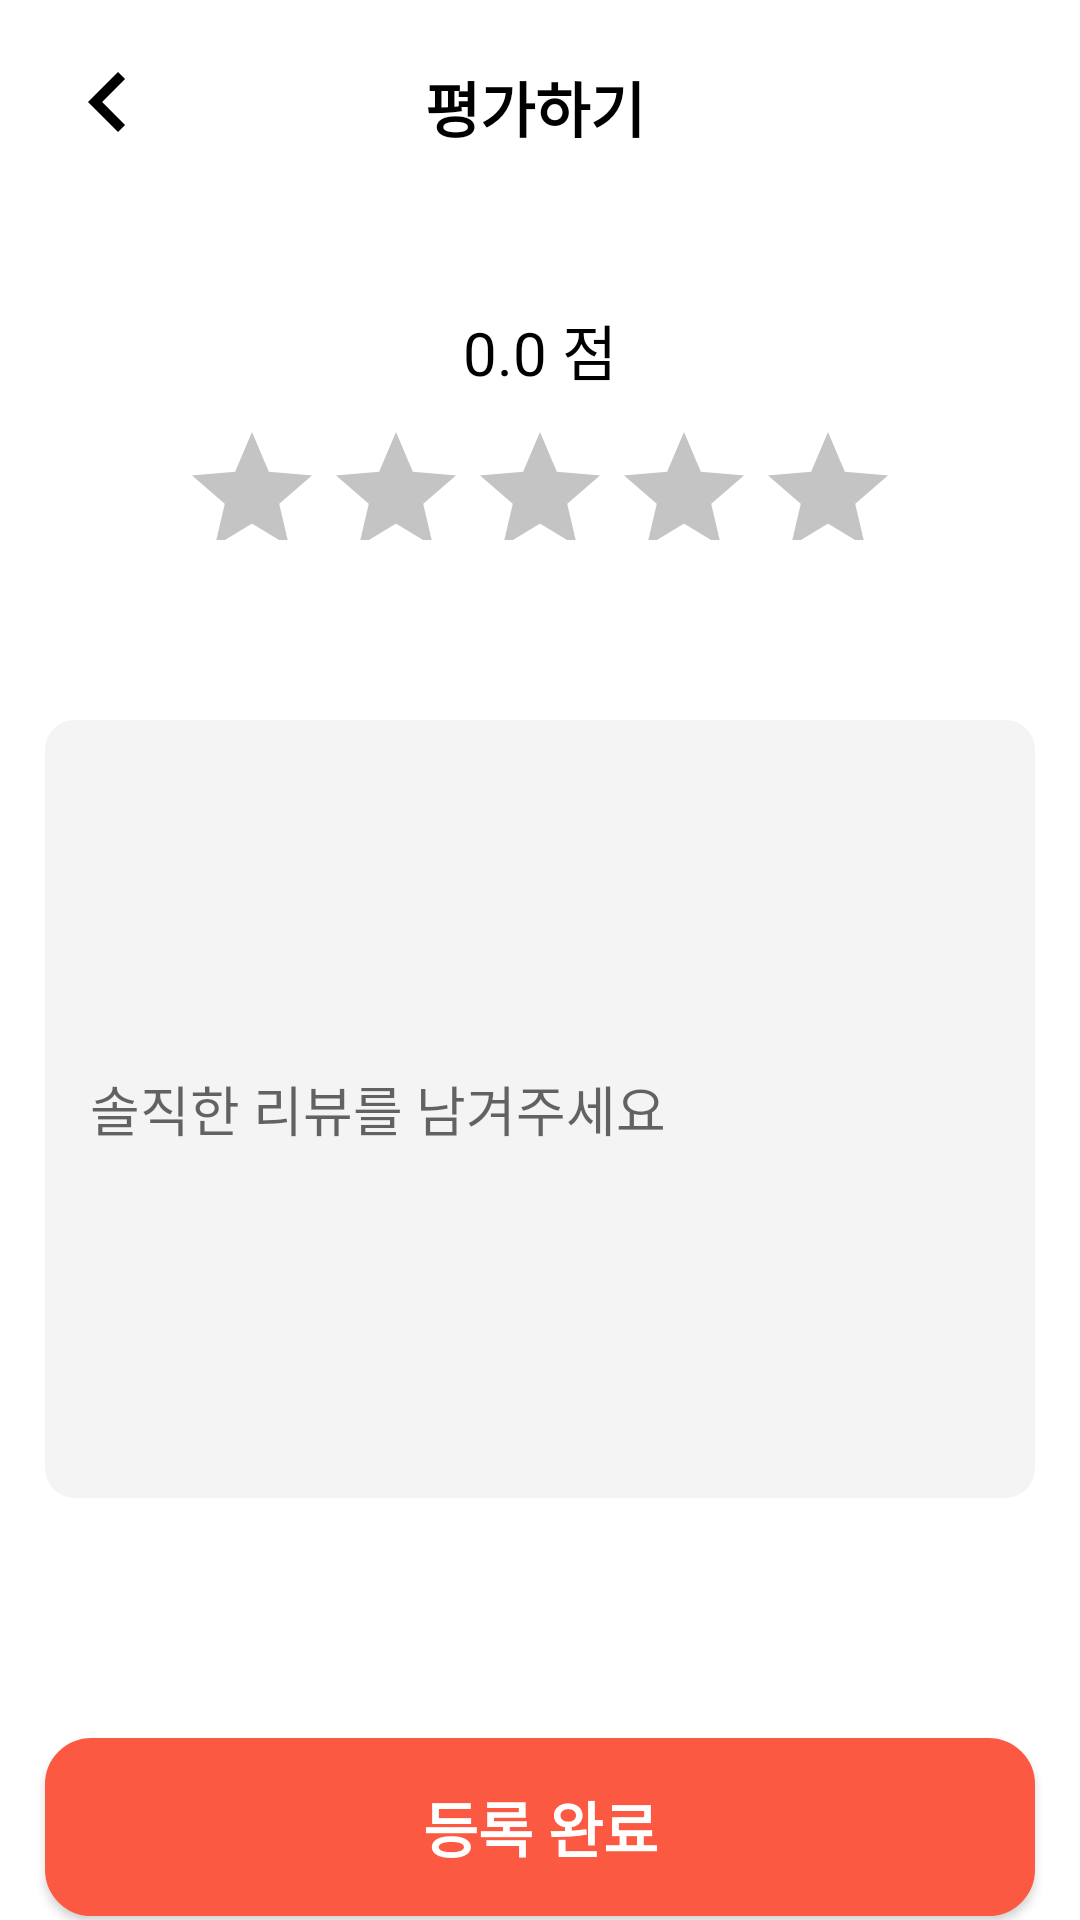

Icons on this 1080x1920 Android screen, each with the point to tap as (x,y):
navigate before: (106,102)
